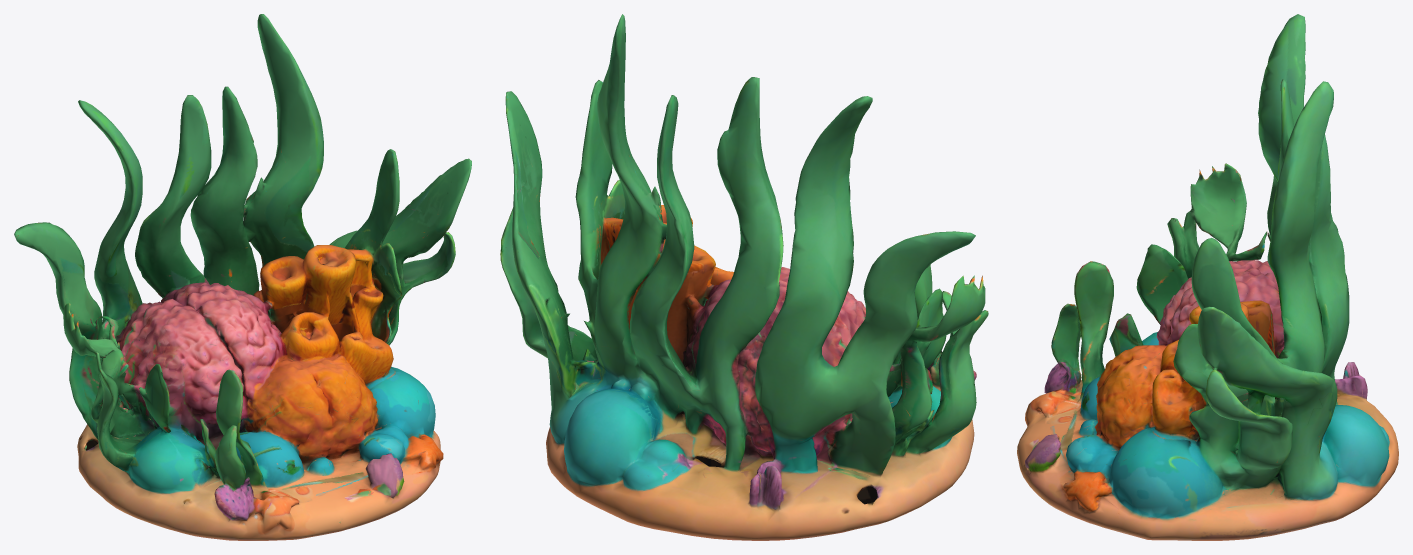
The model's file is SeabedDecoration.glb.
The picture shows the model from 3 angles, left to right: view 1: azimuth 30°, elevation 25°; view 2: azimuth 150°, elevation 25°; view 3: azimuth 270°, elevation 25°; orthographic projection. The views are drawn at different scales.
Bounding box in the file's own units: 1.95 × 1.78 × 1.45.
Materials: 1 (1 with a texture image).
